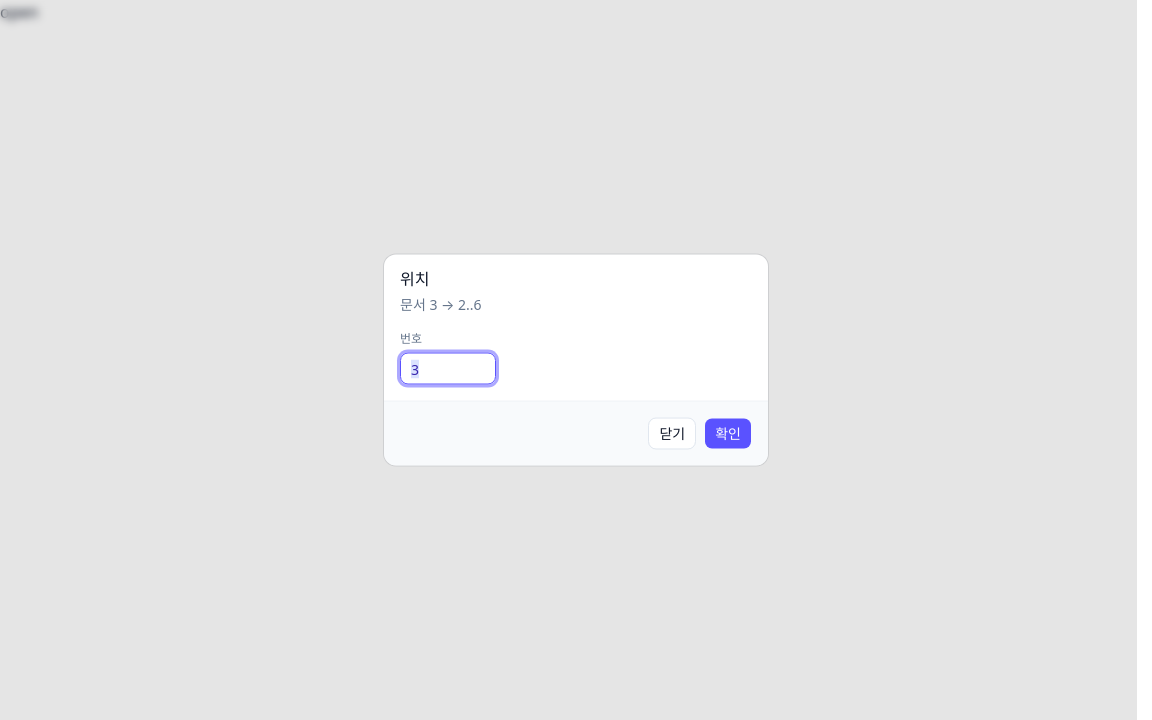
Test: DocumentPositionDialog(Core) 검사와 onMove › 구간 밖·숫자 아님(1)은 labels.invalid 문구를 보이고 닫지 않는다
Replace the text in the field labelled "번호" with "1" at (448, 368), box [400,352,496,384]
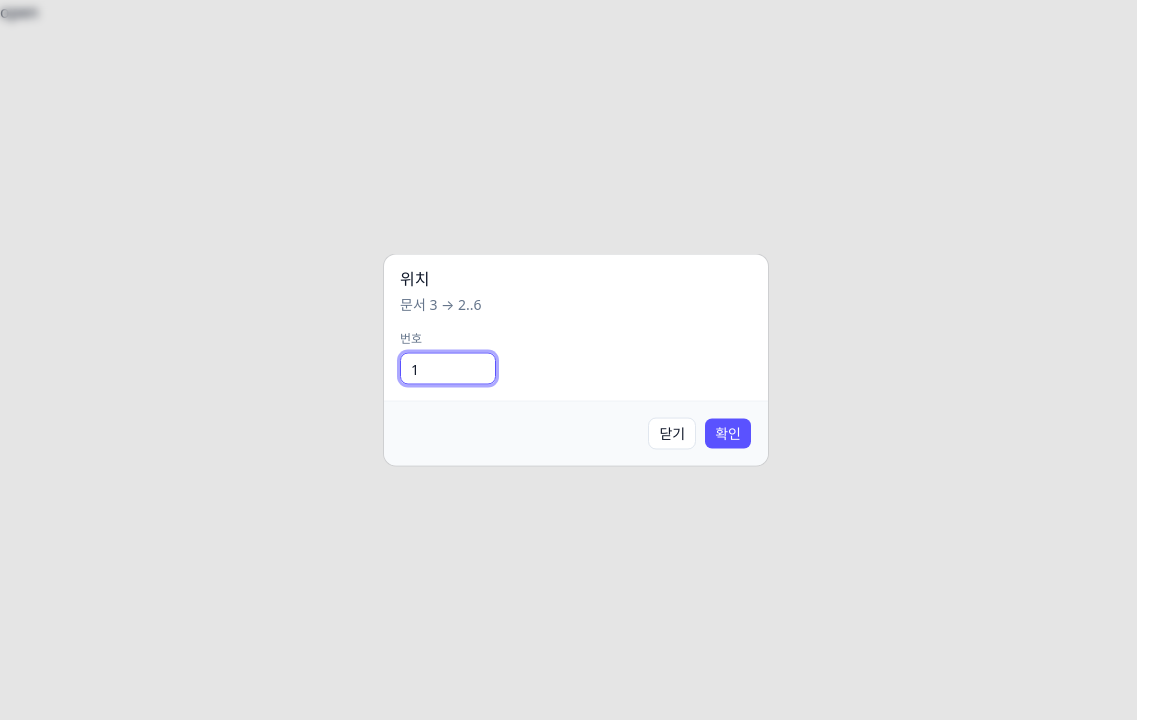
Click the button "확인" at (728, 434), box [704,418,752,450]
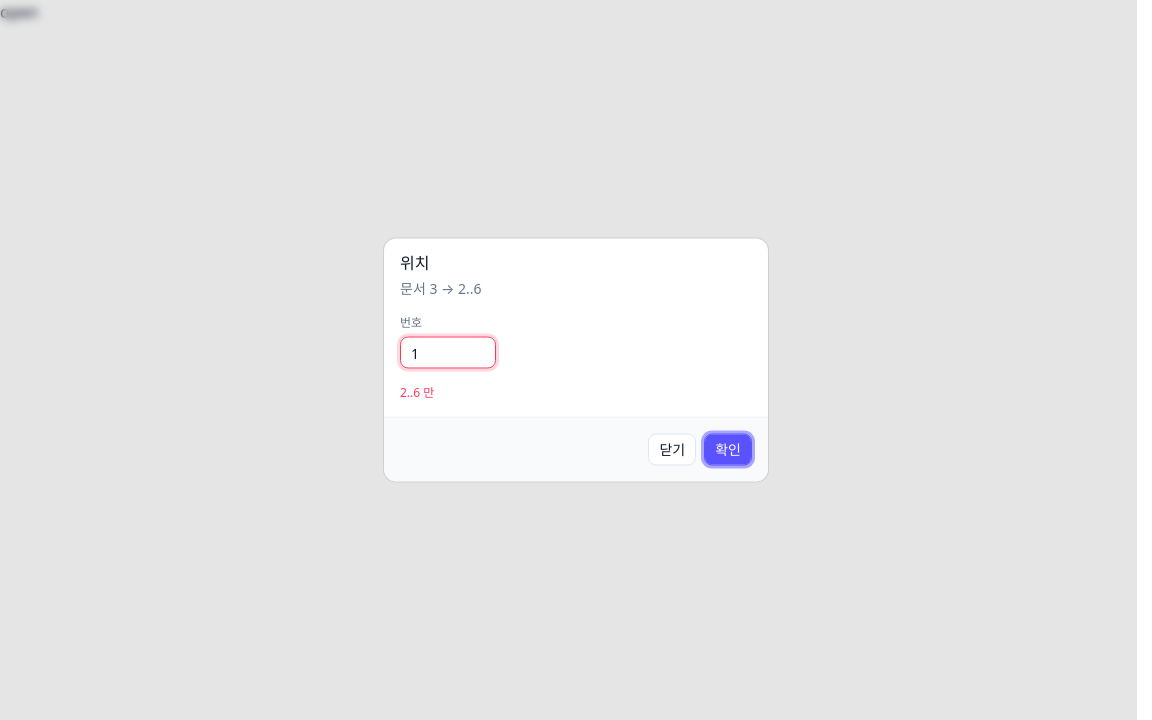
Expected: the message reads "2..6 만", [400,384,434,400]
